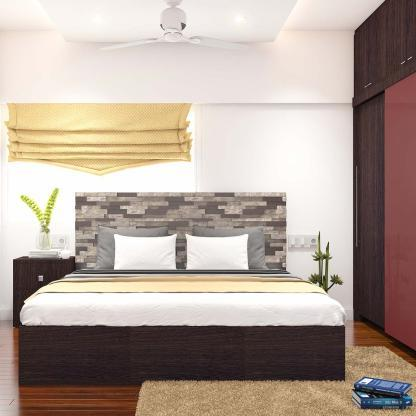bed: (14, 186, 344, 381)
fan: (95, 0, 264, 61)
table: (11, 251, 76, 324)
